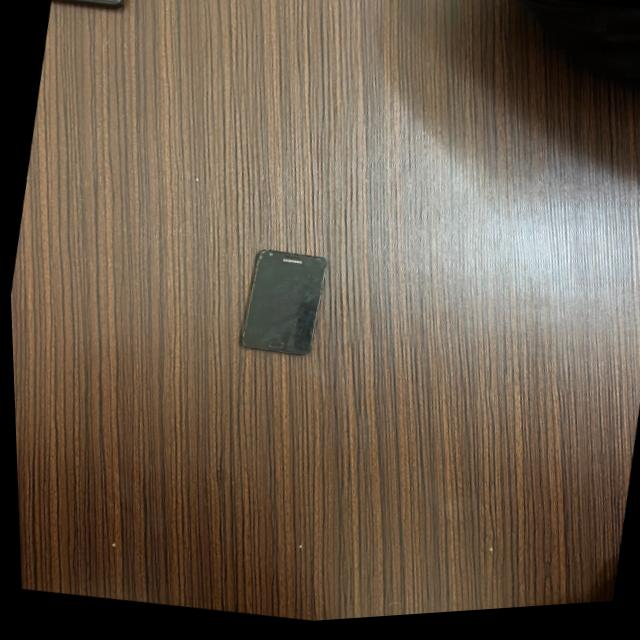Smartphone: (219, 232, 341, 380)
